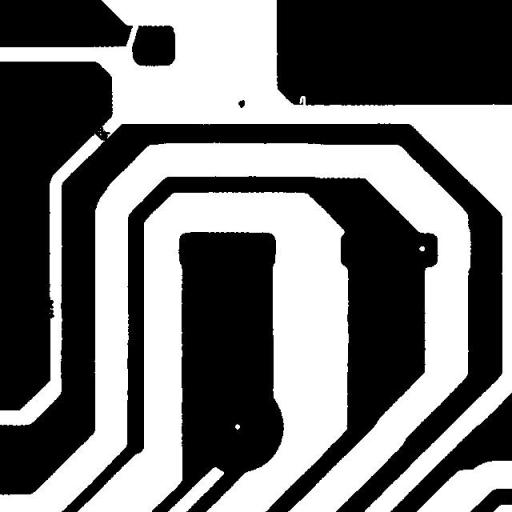copper: (230, 92, 252, 115)
mousebite: (291, 88, 313, 114)
open: (117, 12, 147, 62)
pin-hole: (411, 238, 432, 258)
short: (87, 118, 118, 150)
spur: (38, 292, 62, 327)
